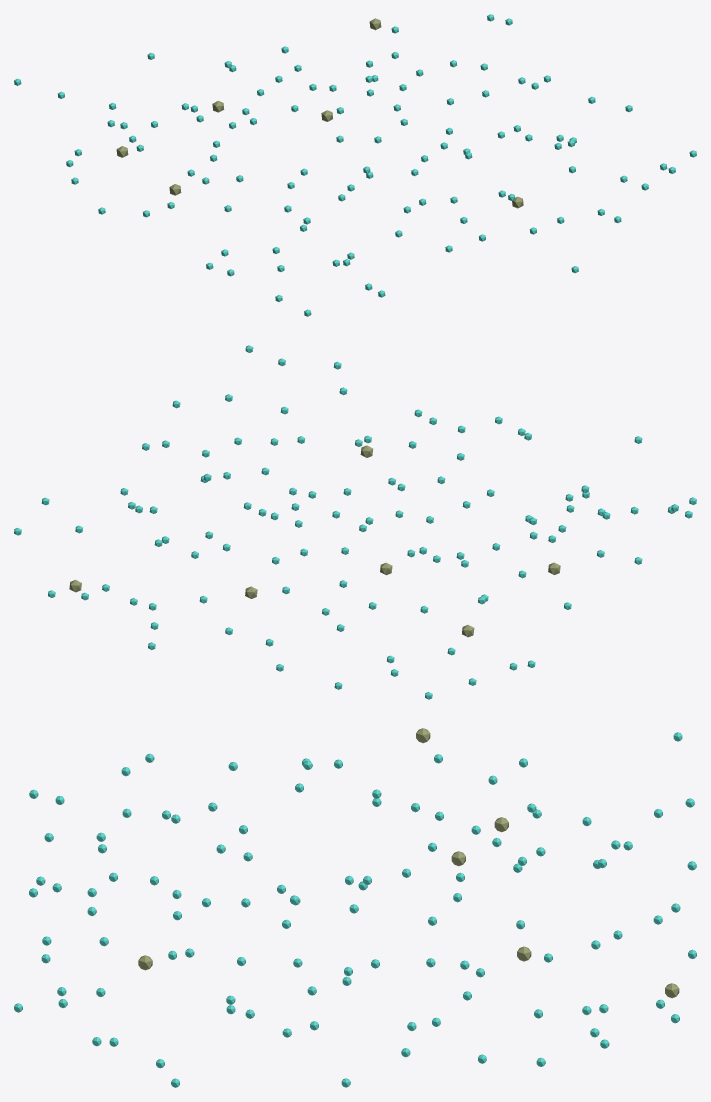
File: mesh-lattice-mid.glb
3 views of the same model, one above another, from view 1: azimuth 30°, elevation 25°; view 2: azimuth 150°, elevation 25°; view 3: azimuth 270°, elevation 25° (orthographic). The views are drawn at different scales.
Parts seen in each view (by area): view 1: lattice_nodes; view 2: lattice_nodes; view 3: lattice_nodes.
Boxes of the visible parts, x1,y1,x2,y2 form: lattice_nodes: [14, 14, 696, 316]; lattice_nodes: [14, 345, 696, 699]; lattice_nodes: [14, 728, 696, 1087].
Size of the model in its own units: 4.02 by 0.73 by 4.16.
